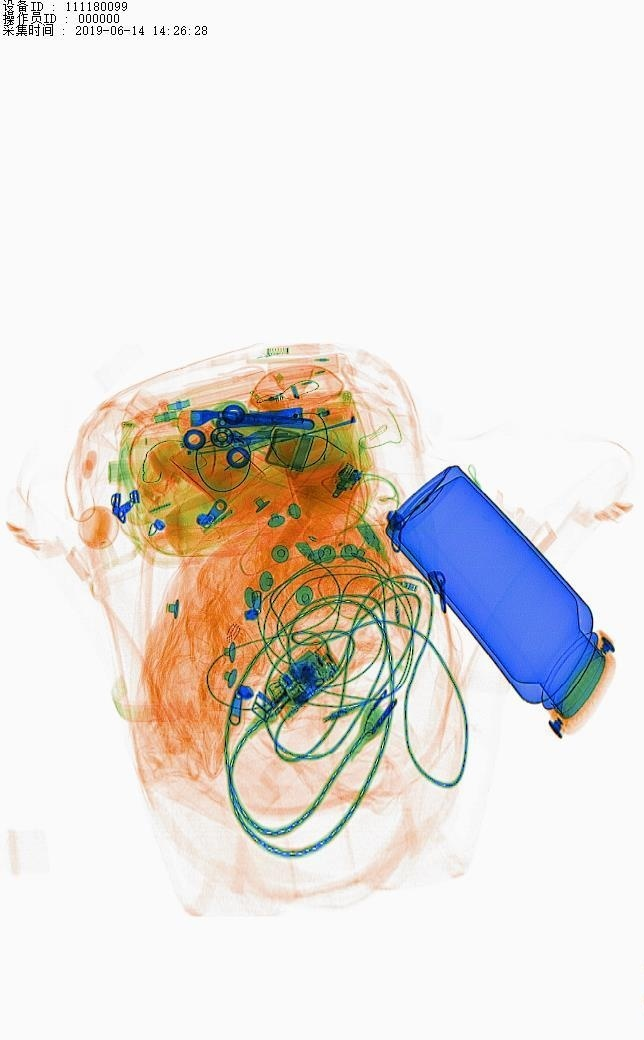NonmetallicFire: (211, 422, 317, 488)
